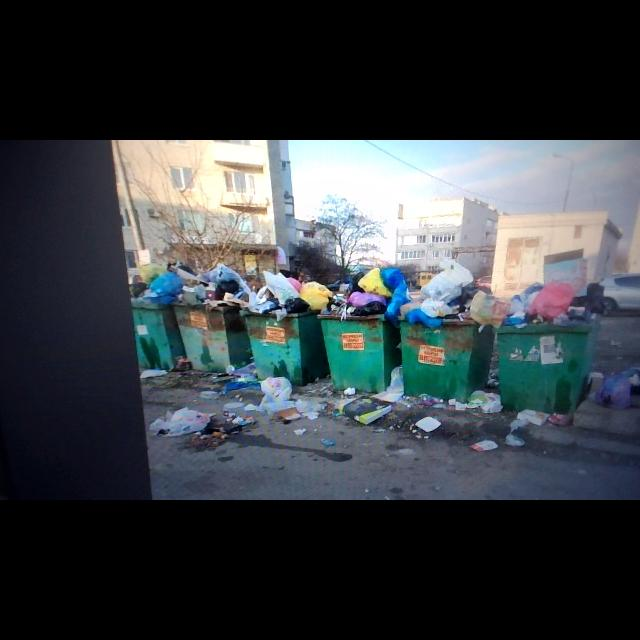Trash_Can_Full: (494, 279, 600, 415), (397, 258, 496, 403), (317, 268, 400, 393), (241, 273, 330, 387), (171, 262, 253, 373), (130, 261, 187, 371)
